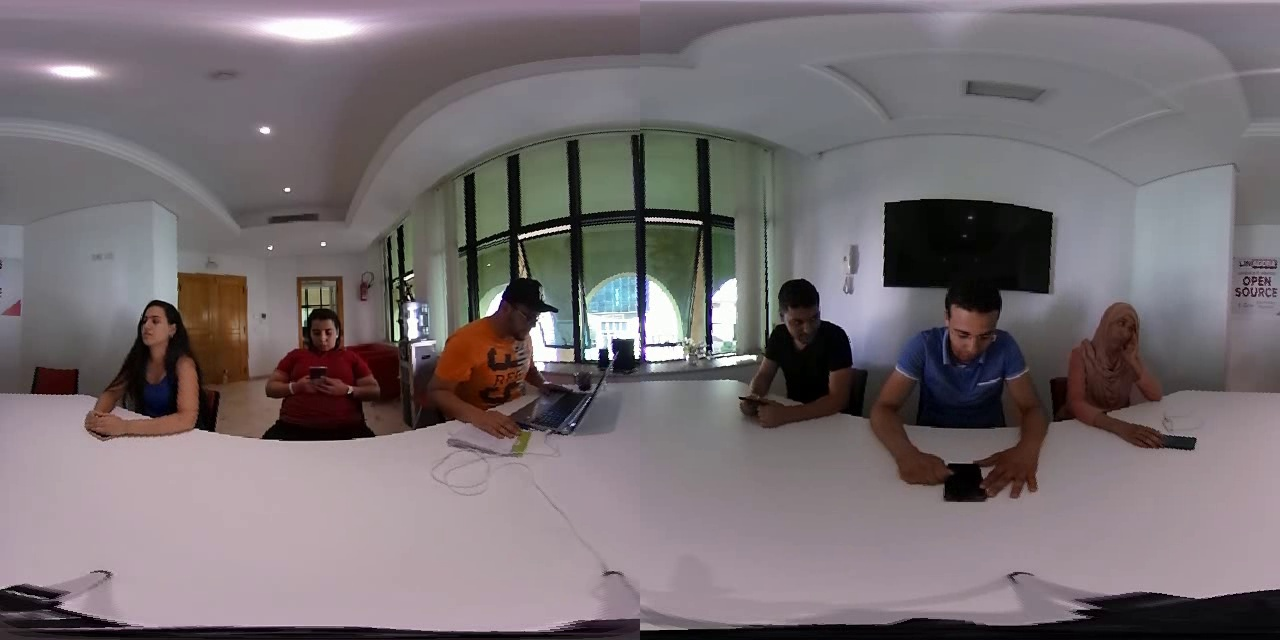person: (864, 279, 1058, 505), (425, 275, 586, 439), (1066, 288, 1205, 459), (722, 272, 859, 427), (247, 304, 393, 441), (82, 296, 214, 445)
